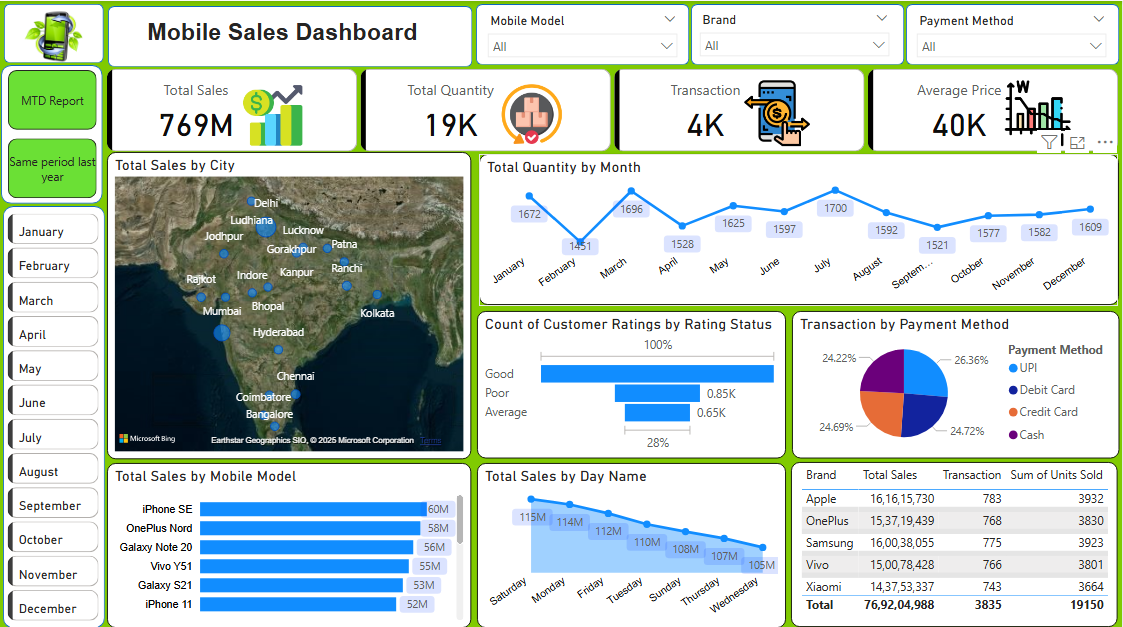

This screenshot's page, from the dashboard's own definition file:
{"tool":"powerbi","page":{"name":"Dashboard","canvas":[1280,720],"ordinal":0},"visuals":[{"type":"shape","box":[5.1,2.6,115.7,69.4],"z":0},{"type":"shape","box":[5.1,233.9,116,481],"z":1000},{"type":"image","box":[6.4,5.1,114.4,69.4],"z":2000},{"type":"shape","box":[3.9,73,115.7,158.1],"z":3000},{"type":"advancedSlicerVisual","fields":{"Values":["Custome_Calander.Date.Variation.Date Hierarchy.Month"]},"box":[5.1,236.5,114.4,474.2],"z":4000},{"type":"shape","box":[1034,3.9,242.9,69.4],"z":5000},{"type":"shape","box":[789,3.9,242.9,69.4],"z":6000},{"type":"shape","box":[544,3.9,242.9,69.4],"z":7000},{"type":"slicer","fields":{"Values":["Mobile Sales Data.Mobile Model"]},"box":[547.5,9,236.5,61],"z":8000},{"type":"slicer","fields":{"Values":["Mobile Sales Data.Brand"]},"box":[789.1,7.7,236.5,60.4],"z":9000},{"type":"slicer","fields":{"Values":["Mobile Sales Data.Payment Method"]},"box":[1037.1,9,236.5,60.4],"z":10000},{"type":"cardVisual","fields":{"Data":["Mobile Sales Data.Total Sales","Mobile Sales Data.Total Quantity","Mobile Sales Data.Transaction","Mobile Sales Data.Average Price"]},"box":[123,76,1154.1,96],"z":11000},{"type":"shape","box":[125,5.1,415.1,69.4],"z":12000},{"type":"textbox","box":[159.4,20.6,329,37.3],"z":13000},{"type":"lineChart","fields":{"Y":["Mobile Sales Data.Total Quantity"],"Category":["Custome_Calander.Date.Variation.Date Hierarchy.Month"]},"box":[547.5,174.8,728.7,172.2],"z":14000},{"type":"funnel","fields":{"Y":["CountNonNull(Mobile Sales Data.Customer Ratings)"],"Category":["Mobile Sales Data.Rating Status"]},"box":[546,353.4,352.1,168.4],"z":15000},{"type":"pieChart","fields":{"Y":["Mobile Sales Data.Transaction"],"Category":["Mobile Sales Data.Payment Method"]},"box":[904,353.4,373,168.4],"z":16000},{"type":"barChart","fields":{"Y":["Mobile Sales Data.Total Sales"],"Category":["Mobile Sales Data.Mobile Model"]},"box":[124.7,526,415.1,188],"z":17000},{"type":"areaChart","fields":{"Category":["Custome_Calander.Day Name"],"Y":["Mobile Sales Data.Total Sales"]},"box":[546,526,352.1,188],"z":18000},{"type":"tableEx","fields":{"Values":["Mobile Sales Data.Brand","Mobile Sales Data.Total Sales","Mobile Sales Data.Transaction","Sum(Mobile Sales Data.Units Sold)"]},"box":[903,525,372,188],"z":19000},{"type":"pageNavigator","box":[11.6,78.4,101.5,146.5],"z":20000},{"type":"map","fields":{"Category":["Mobile Sales Data.City"],"Size":["Mobile Sales Data.Total Sales"]},"box":[124.7,172.2,415.1,349.6],"z":21000}]}

Visuals, with their boxes in screenshot pixels (x1, y1, x2, y2), scaled from the page's 1280x720 canvas onto the 1123x627 screenshot:
shape: locate(4, 2, 106, 63)
shape: locate(4, 204, 106, 623)
image: locate(6, 4, 106, 65)
shape: locate(3, 64, 105, 201)
advancedSlicerVisual - Custome_Calander.Date.Variation.Date Hierarchy.Month: locate(4, 206, 105, 619)
shape: locate(907, 3, 1120, 64)
shape: locate(692, 3, 905, 64)
shape: locate(477, 3, 690, 64)
slicer - Mobile Sales Data.Mobile Model: locate(480, 8, 688, 61)
slicer - Mobile Sales Data.Brand: locate(692, 7, 900, 59)
slicer - Mobile Sales Data.Payment Method: locate(910, 8, 1117, 60)
cardVisual - Mobile Sales Data.Total Sales x Mobile Sales Data.Total Quantity: locate(108, 66, 1120, 150)
shape: locate(110, 4, 474, 65)
textbox: locate(140, 18, 428, 50)
lineChart - Mobile Sales Data.Total Quantity x Custome_Calander.Date.Variation.Date Hierarchy.Month: locate(480, 152, 1120, 302)
funnel - CountNonNull(Mobile Sales Data.Customer Ratings) x Mobile Sales Data.Rating Status: locate(479, 308, 788, 454)
pieChart - Mobile Sales Data.Transaction x Mobile Sales Data.Payment Method: locate(793, 308, 1120, 454)
barChart - Mobile Sales Data.Total Sales x Mobile Sales Data.Mobile Model: locate(109, 458, 474, 622)
areaChart - Custome_Calander.Day Name x Mobile Sales Data.Total Sales: locate(479, 458, 788, 622)
tableEx - Mobile Sales Data.Brand x Mobile Sales Data.Total Sales: locate(792, 457, 1119, 621)
pageNavigator: locate(10, 68, 99, 196)
map - Mobile Sales Data.City x Mobile Sales Data.Total Sales: locate(109, 150, 474, 454)
